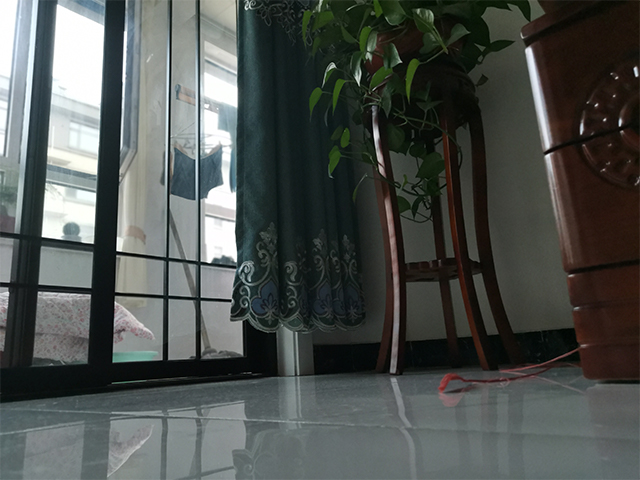curtain: (226, 1, 369, 338)
